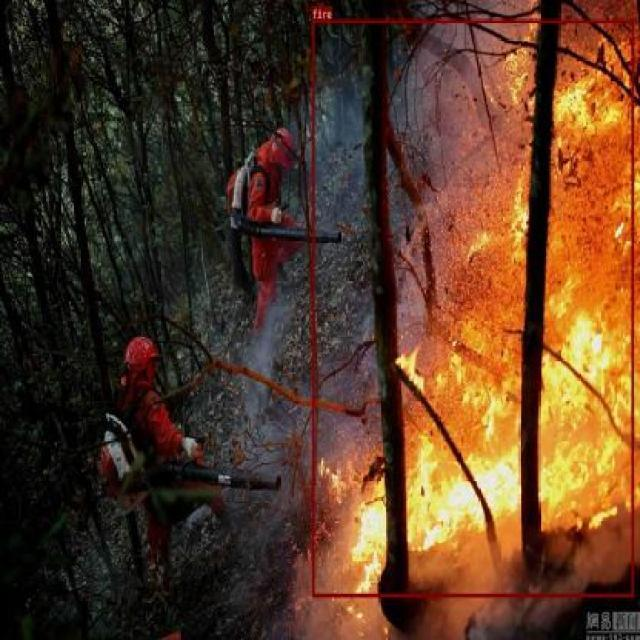Fire: (312, 18, 634, 597)
